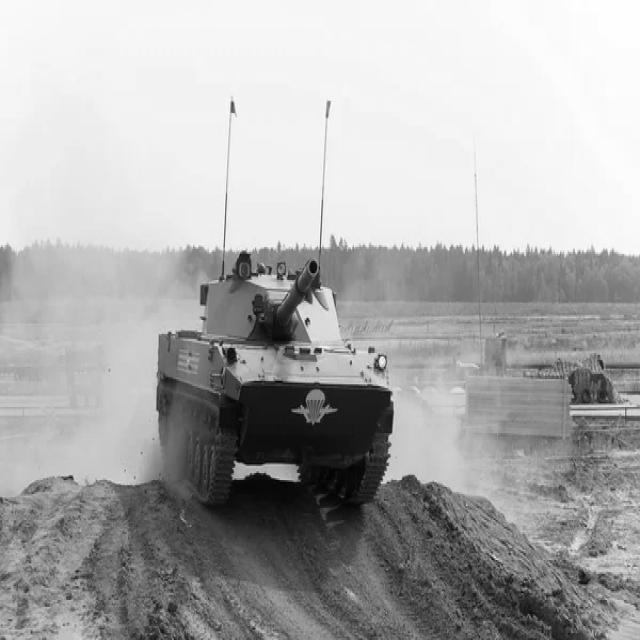Tank: (149, 244, 404, 516)
